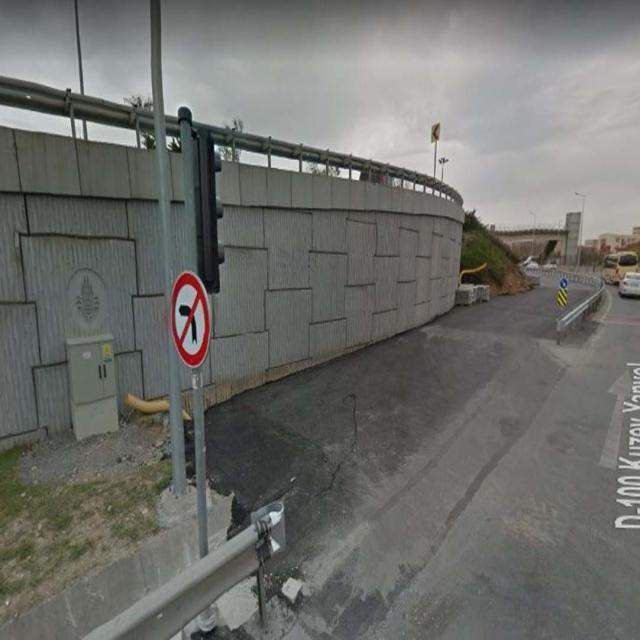soladonulmez: (172, 272, 210, 369)
